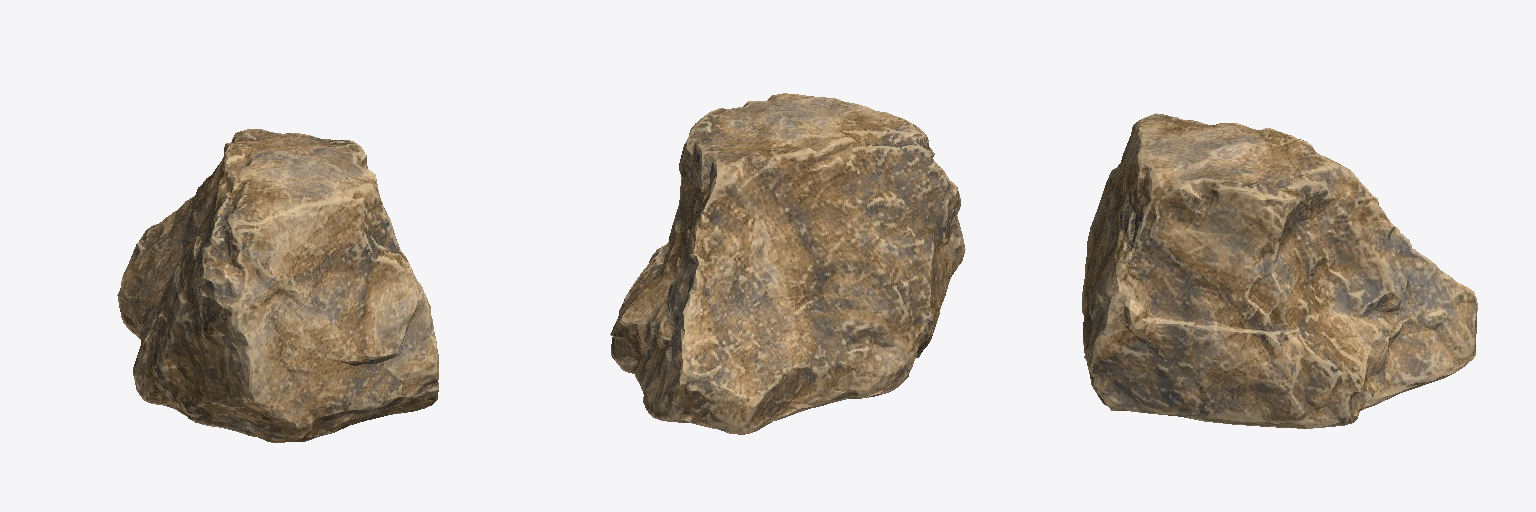
The picture shows the model from 3 angles: view 1: azimuth 30°, elevation 25°; view 2: azimuth 150°, elevation 25°; view 3: azimuth 270°, elevation 25°; orthographic projection.
Parts seen in each view (by area): view 1: Cliff_Rock_2_Model; view 2: Cliff_Rock_2_Model; view 3: Cliff_Rock_2_Model.
Part boxes in pixels (left/top/right/bottom): Cliff_Rock_2_Model: left=117, top=129, right=438, bottom=442; Cliff_Rock_2_Model: left=610, top=93, right=965, bottom=434; Cliff_Rock_2_Model: left=1082, top=113, right=1477, bottom=428.
Size of the model in its own units: 31.07 by 26.51 by 41.
Materials: 1 (1 with a texture image).